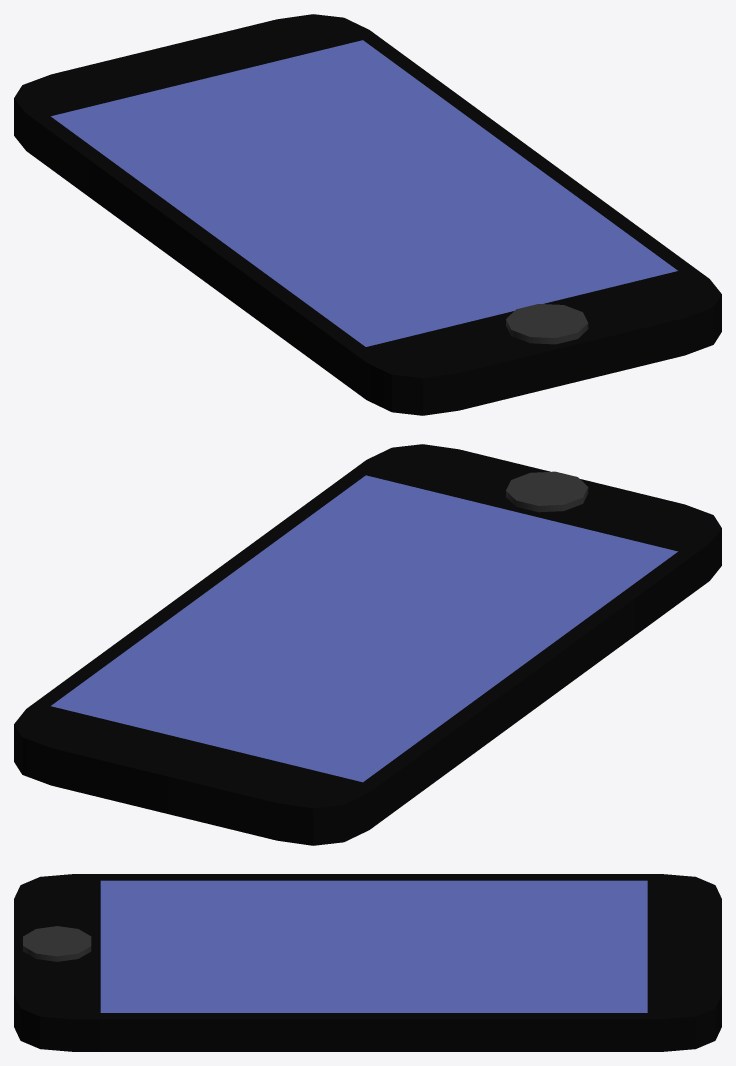
File: ThrowProp_Phone.FBX
The picture shows the model from 3 angles, top to bottom: view 1: azimuth 30°, elevation 25°; view 2: azimuth 150°, elevation 25°; view 3: azimuth 270°, elevation 25°; orthographic projection. The views are drawn at different scales.
Visible parts, largest first — view 1: Box001; view 2: Box001; view 3: Box001.
Boxes of the visible parts, left/top/right/bottom form: Box001: left=14, top=14, right=721, bottom=415; Box001: left=14, top=444, right=721, bottom=845; Box001: left=14, top=874, right=721, bottom=1051.
Bounding box in the file's own units: 6.7 × 0.818 × 13.8.
1 material, 1 textured.
